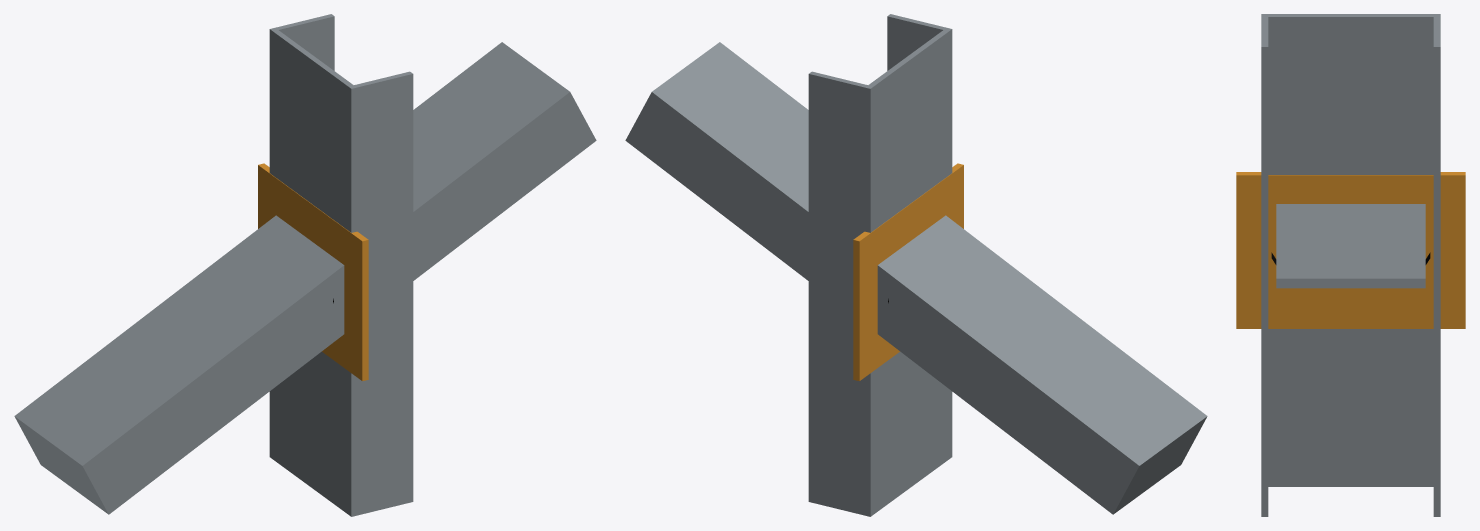
File: typical_stringer_beam_to_beam_connection.obj
3 views of the same model, side by side, from view 1: azimuth 30°, elevation 25°; view 2: azimuth 150°, elevation 25°; view 3: azimuth 270°, elevation 25° (orthographic). The views are drawn at different scales.
Parts seen in each view (by area): view 1: sloping_stringer_member, TFC180x75x7_stringer_top_flange, TFC180x75x7_stringer_web, PL8_connection_plate_3M20, TFC180x75x7_stringer_bottom_flange; view 2: sloping_stringer_member, TFC180x75x7_stringer_bottom_flange, TFC180x75x7_stringer_web, PL8_connection_plate_3M20, TFC180x75x7_stringer_top_flange; view 3: TFC180x75x7_stringer_web, PL8_connection_plate_3M20, sloping_stringer_member, TFC180x75x7_stringer_bottom_flange, TFC180x75x7_stringer_top_flange.
Boxes of the visible parts, box(x1,y1,x2,y2) form: sloping_stringer_member: box(14, 42, 596, 514); TFC180x75x7_stringer_top_flange: box(348, 71, 413, 516); TFC180x75x7_stringer_web: box(269, 28, 356, 516); PL8_connection_plate_3M20: box(258, 163, 368, 381); TFC180x75x7_stringer_bottom_flange: box(269, 14, 334, 456); sloping_stringer_member: box(625, 42, 1207, 514); TFC180x75x7_stringer_bottom_flange: box(808, 71, 873, 516); TFC180x75x7_stringer_web: box(865, 28, 952, 516); PL8_connection_plate_3M20: box(853, 163, 963, 381); TFC180x75x7_stringer_top_flange: box(887, 14, 952, 454); TFC180x75x7_stringer_web: box(1261, 14, 1440, 486); PL8_connection_plate_3M20: box(1236, 172, 1465, 328); sloping_stringer_member: box(1276, 204, 1425, 288); TFC180x75x7_stringer_bottom_flange: box(1433, 14, 1440, 516); TFC180x75x7_stringer_top_flange: box(1261, 15, 1268, 516).
Bounding box in the file's own units: 654 × 520 × 230.
